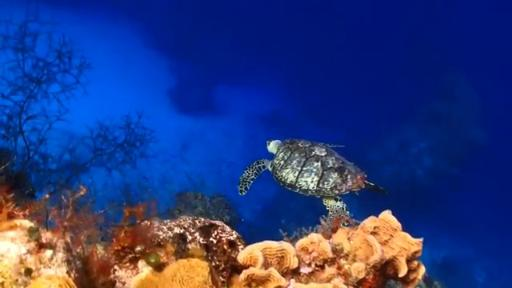Fish: (239, 139, 386, 216)
